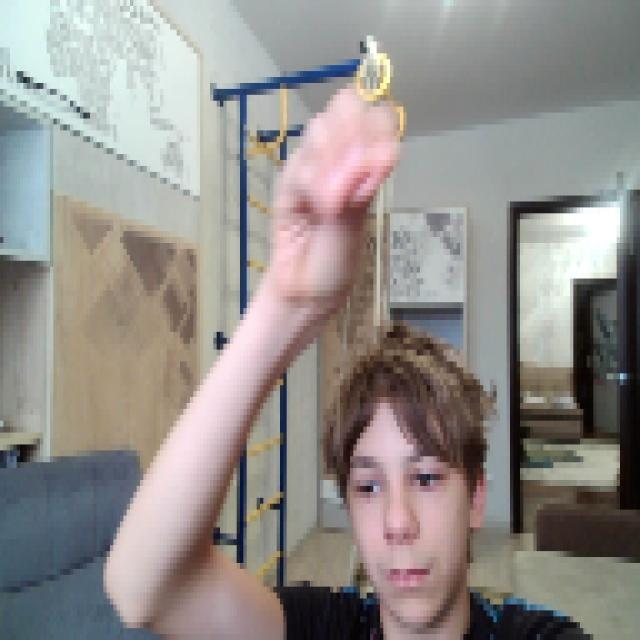left_click: (260, 77, 397, 302)
